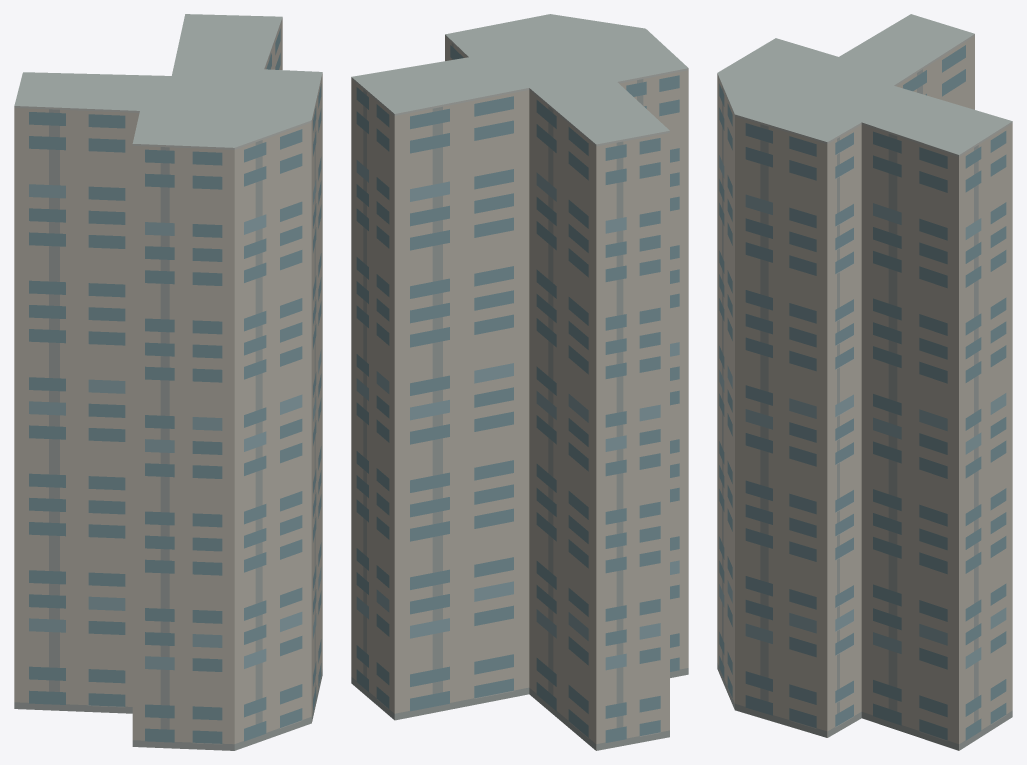
The model's file is residential-d1af6ec5-feae-4e5a-afce-101c146a6198.glb.
3 views of the same model, side by side, from view 1: azimuth 30°, elevation 25°; view 2: azimuth 150°, elevation 25°; view 3: azimuth 270°, elevation 25° (orthographic).
Parts seen in each view (by area): view 1: residential-d1af6ec5-feae-4e5a-afce-101c146a6198.tmp; view 2: residential-d1af6ec5-feae-4e5a-afce-101c146a6198.tmp; view 3: residential-d1af6ec5-feae-4e5a-afce-101c146a6198.tmp.
Boxes of the visible parts, box(x1,y1,x2,y2) form: residential-d1af6ec5-feae-4e5a-afce-101c146a6198.tmp: box(14, 14, 322, 750); residential-d1af6ec5-feae-4e5a-afce-101c146a6198.tmp: box(351, 14, 688, 750); residential-d1af6ec5-feae-4e5a-afce-101c146a6198.tmp: box(717, 14, 1012, 750).
Bounding box in the file's own units: 36.58 × 72 × 32.36.
